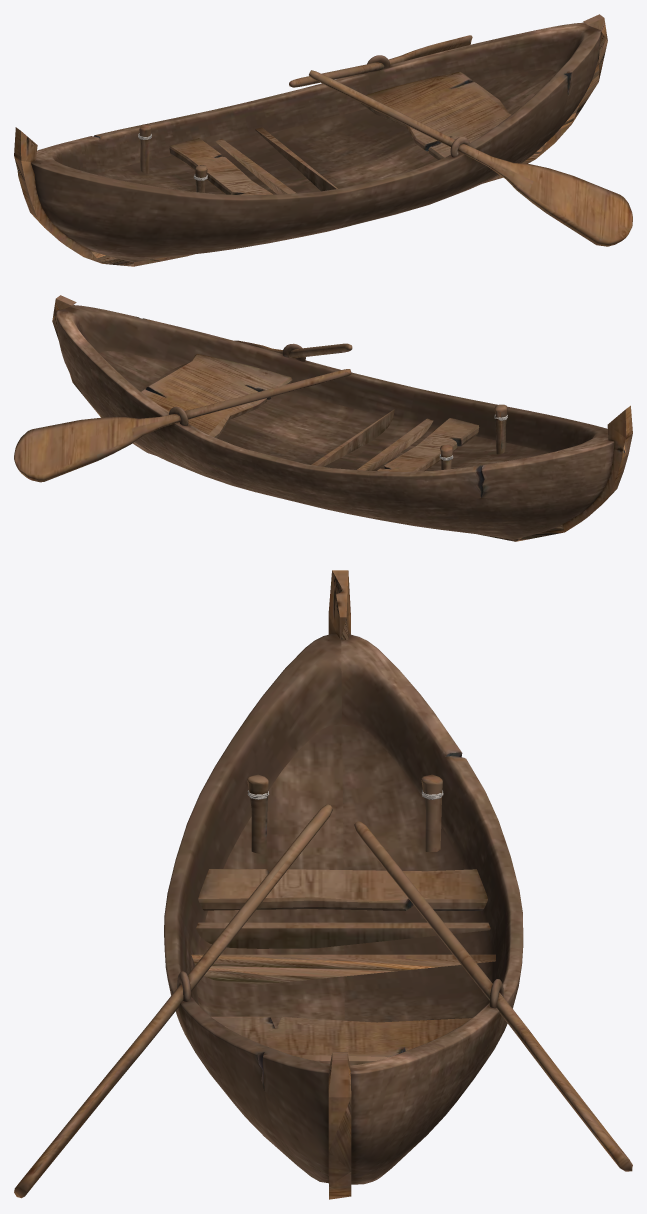
Rendered from thuyen-go-cu.glb.
The picture shows the model from 3 angles, top to bottom: view 1: azimuth 30°, elevation 25°; view 2: azimuth 150°, elevation 25°; view 3: azimuth 270°, elevation 25°; orthographic projection. The views are drawn at different scales.
Visible parts, largest first — view 1: Body, A_4, polySurface4, A_1, polySurface3, polySurface1, polySurface2, polySurface5; view 2: Body, A_4, polySurface4, A_1, polySurface3, polySurface1, polySurface2, polySurface6; view 3: Body, A_4, polySurface3, polySurface4, polySurface1, polySurface2, A_1, polySurface6, polySurface5.
Part boxes in pixels (left/top/right/bottom): Body: left=31, top=22, right=600, bottom=261; A_4: left=289, top=35, right=632, bottom=246; polySurface4: left=361, top=71, right=511, bottom=159; A_1: left=14, top=14, right=607, bottom=266; polySurface3: left=169, top=138, right=272, bottom=195; polySurface1: left=255, top=127, right=337, bottom=191; polySurface2: left=215, top=139, right=296, bottom=194; polySurface5: left=139, top=124, right=151, bottom=173; Body: left=56, top=305, right=614, bottom=539; A_4: left=14, top=340, right=352, bottom=482; polySurface4: left=141, top=354, right=292, bottom=438; A_1: left=52, top=295, right=632, bottom=541; polySurface3: left=377, top=418, right=479, bottom=471; polySurface1: left=311, top=409, right=394, bottom=466; polySurface2: left=357, top=418, right=433, bottom=470; polySurface6: left=494, top=404, right=507, bottom=454; Body: left=164, top=633, right=523, bottom=1184; A_4: left=14, top=804, right=632, bottom=1198; polySurface3: left=198, top=869, right=487, bottom=910; polySurface4: left=211, top=1016, right=472, bottom=1065; polySurface1: left=191, top=954, right=495, bottom=984; polySurface2: left=196, top=922, right=490, bottom=948; A_1: left=328, top=570, right=351, bottom=1199; polySurface6: left=247, top=774, right=268, bottom=854; polySurface5: left=421, top=774, right=442, bottom=851.
Bounding box in the file's own units: 1 × 0.2702 × 0.5859.
Materials: 3 (3 with a texture image).
